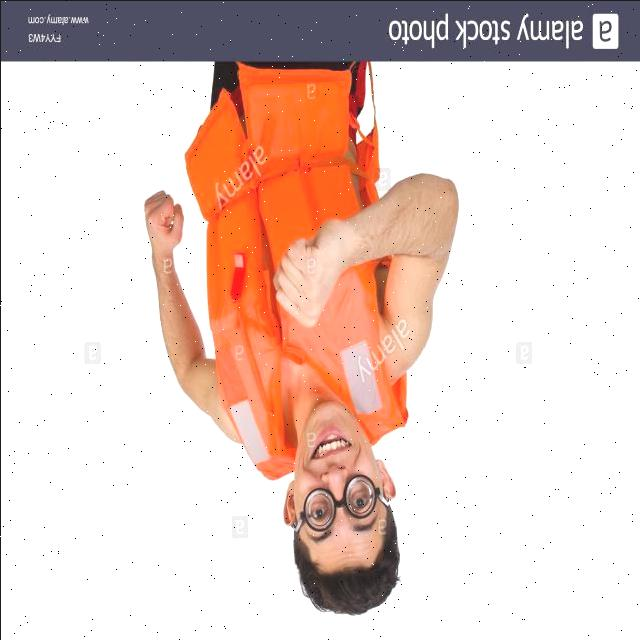Vest: (179, 145, 439, 476)
